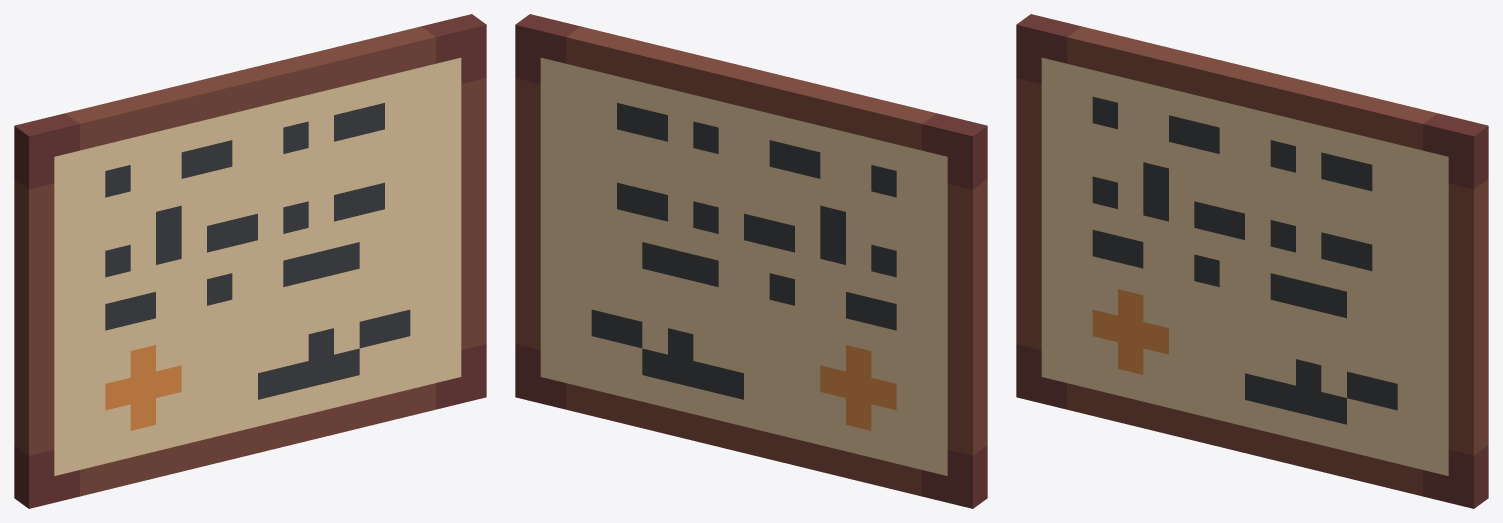
File: diploma.obj
3 renders of one model, left to right at view 1: azimuth 30°, elevation 25°; view 2: azimuth 150°, elevation 25°; view 3: azimuth 330°, elevation 25°, orthographic.
Size of the model in its own units: 1.8 by 1.4 by 0.1.
1 material, 1 textured.
